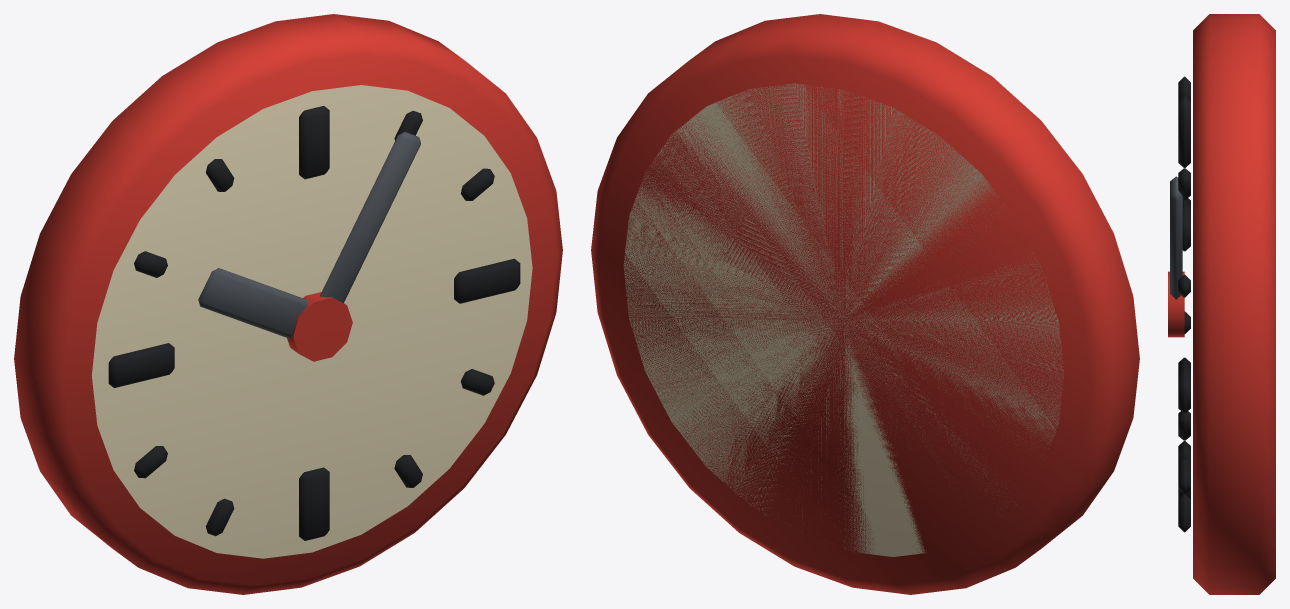
The model's file is WallClock_Kitchen_01.glb.
3 views of the same model, side by side, from view 1: azimuth 30°, elevation 25°; view 2: azimuth 150°, elevation 25°; view 3: azimuth 270°, elevation 25° (orthographic). The views are drawn at different scales.
Visible parts, largest first — view 1: SM_WallClock_Kitchen_01; view 2: SM_WallClock_Kitchen_01; view 3: SM_WallClock_Kitchen_01.
Part boxes in pixels (x1,y1,x2,y2): SM_WallClock_Kitchen_01: (14, 14, 562, 594); SM_WallClock_Kitchen_01: (591, 14, 1139, 594); SM_WallClock_Kitchen_01: (1168, 14, 1275, 594).
Bounding box in the file's own units: 0.28 × 0.28 × 0.052.
Materials: 1 (1 with a texture image).
